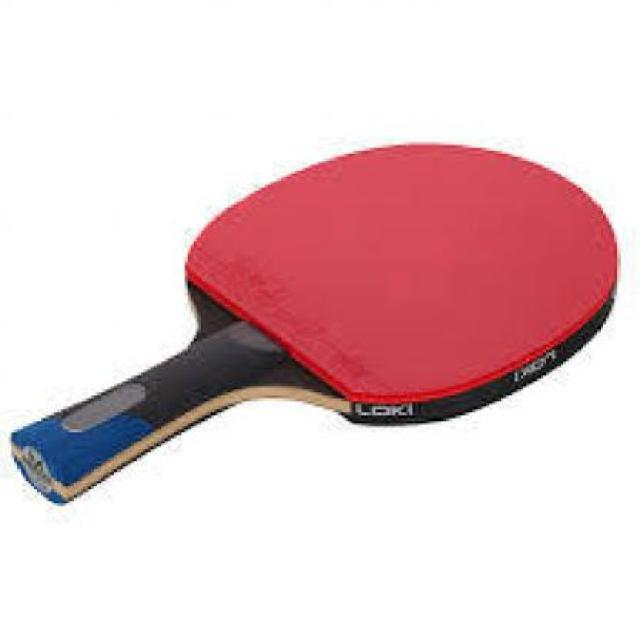table_tennis_racket: (175, 143, 620, 440)
